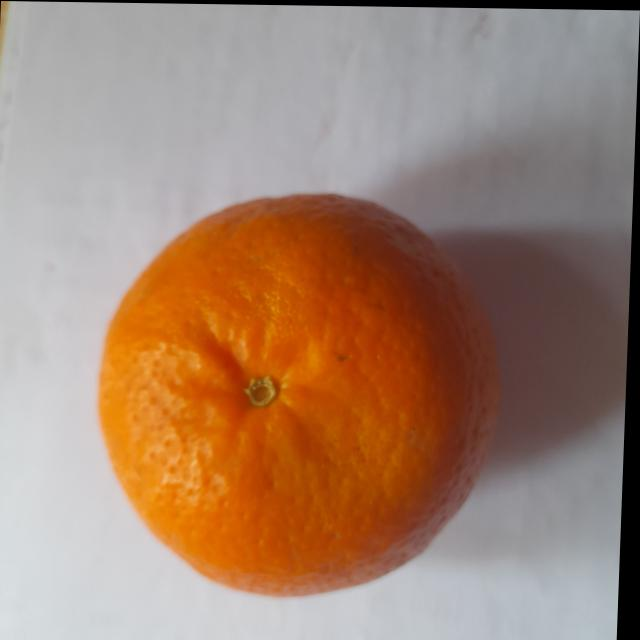Cam: (87, 174, 527, 605)
